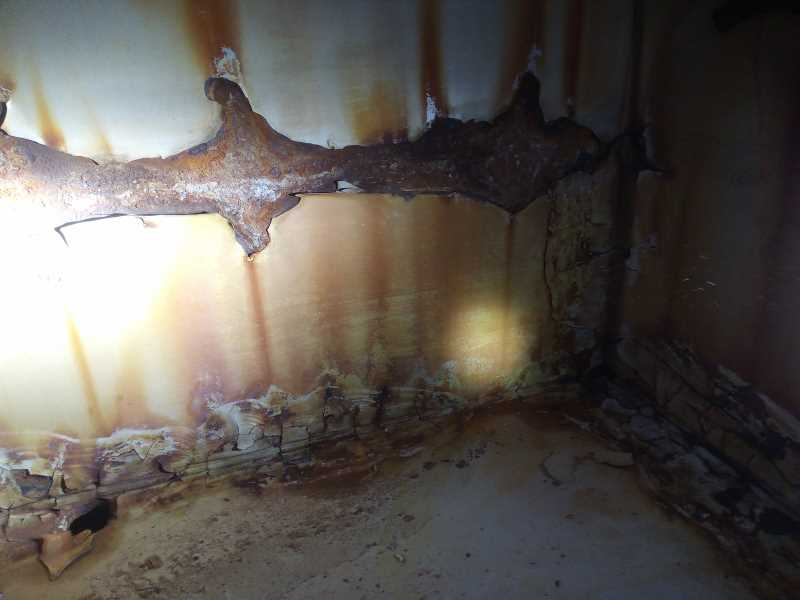corrosion: (174, 0, 306, 401), (319, 195, 544, 403), (162, 76, 392, 253), (402, 66, 617, 218), (180, 381, 448, 493), (2, 429, 184, 575), (0, 95, 155, 256), (61, 324, 131, 441), (408, 0, 454, 133), (498, 0, 541, 114), (556, 0, 583, 119)
